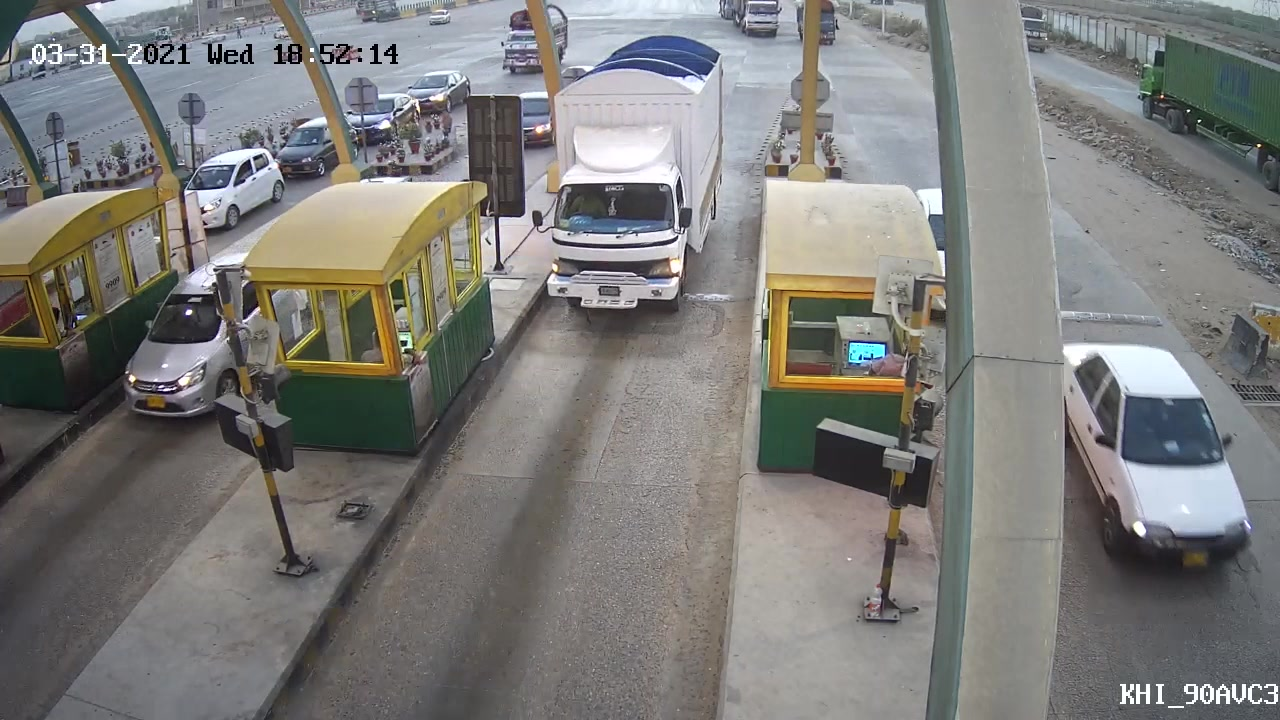F5: (522, 37, 742, 310)
